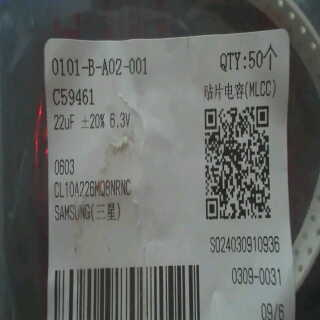22uF: (49, 111, 79, 133)
